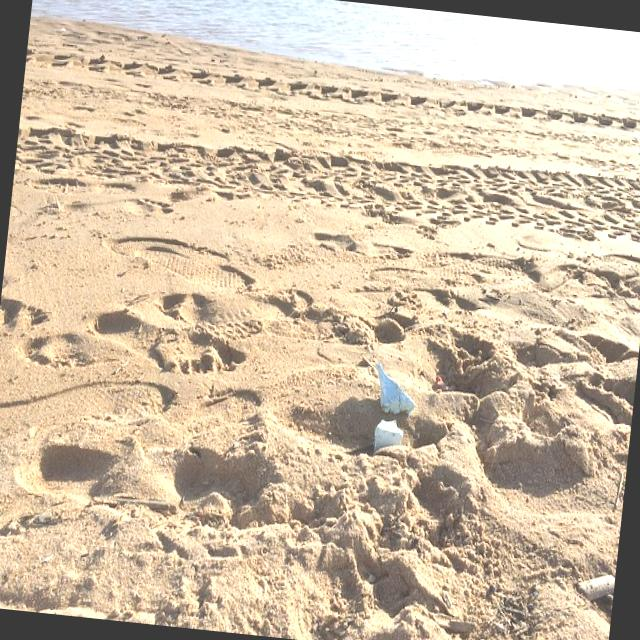Recycle: (368, 358, 422, 416)
Trash: (368, 412, 408, 450)
